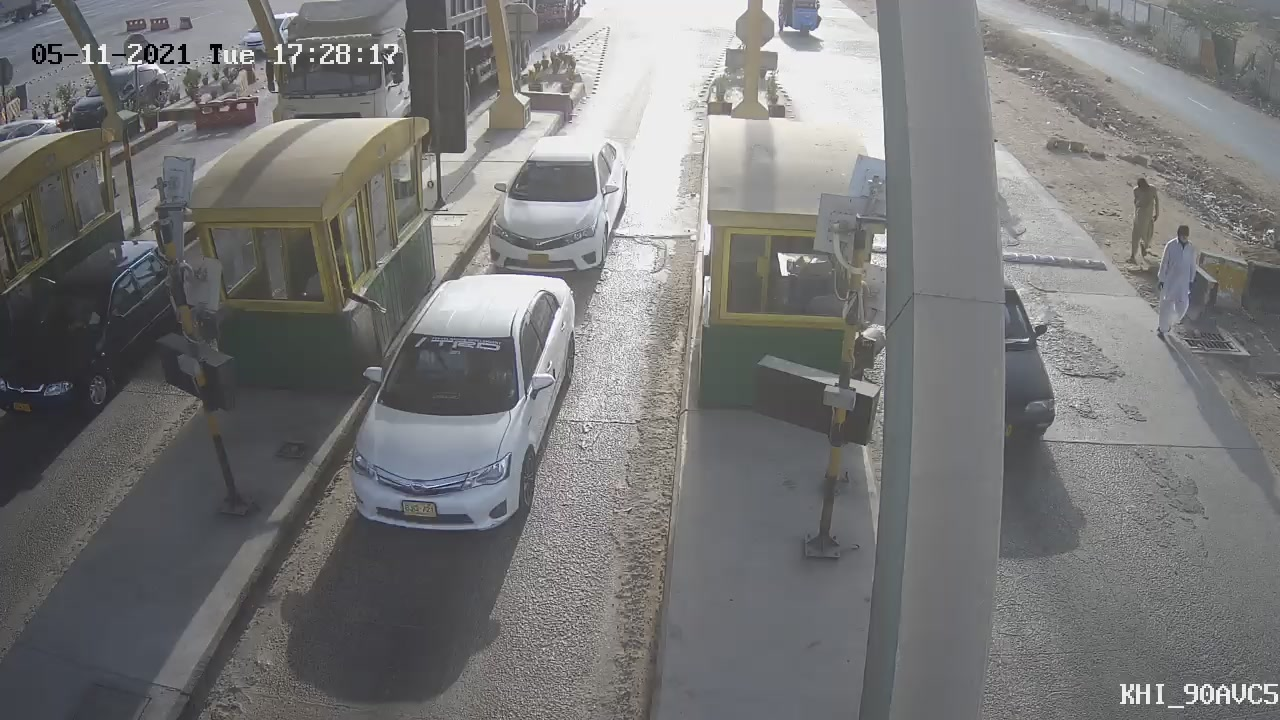F1: (326, 257, 599, 549), (477, 113, 642, 291)
